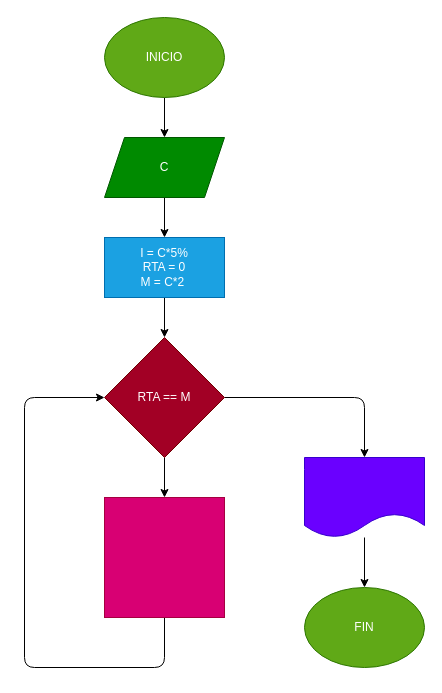
This 442x693 diagram has some shape labels left out. Each missing label, with the box of its shape:
MES: (304, 456, 424, 538)
MES = RTA+I RTA = MES*5%: (104, 496, 224, 618)
